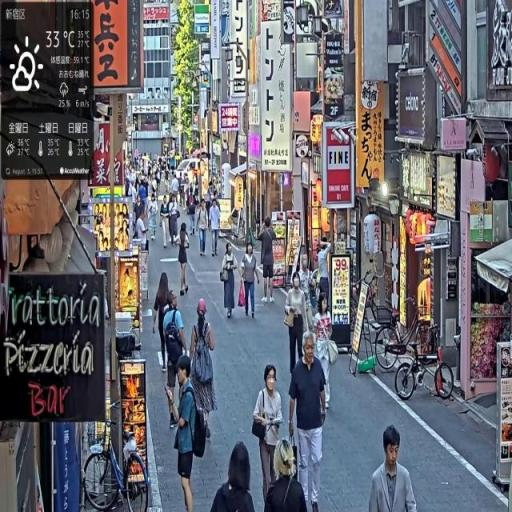person: (287, 331, 329, 512), (171, 352, 204, 512), (253, 364, 285, 512), (368, 426, 419, 512), (188, 298, 218, 444), (163, 290, 189, 425), (210, 442, 258, 512), (265, 438, 308, 512), (284, 273, 312, 381), (153, 272, 175, 373), (260, 216, 278, 307), (241, 241, 261, 320), (220, 240, 239, 322), (177, 221, 192, 299), (209, 197, 222, 258), (197, 199, 210, 258), (168, 195, 181, 248)
